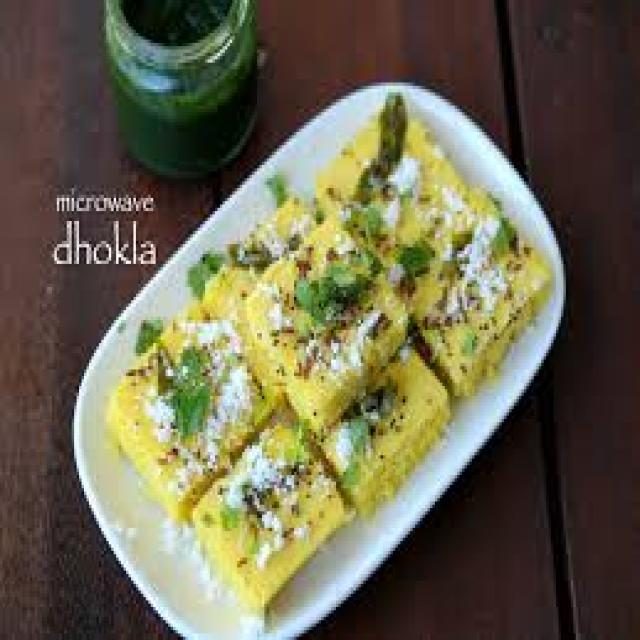DHOKLA: (240, 224, 408, 429), (111, 320, 277, 518), (193, 422, 348, 614), (420, 214, 549, 396), (321, 350, 447, 511)
